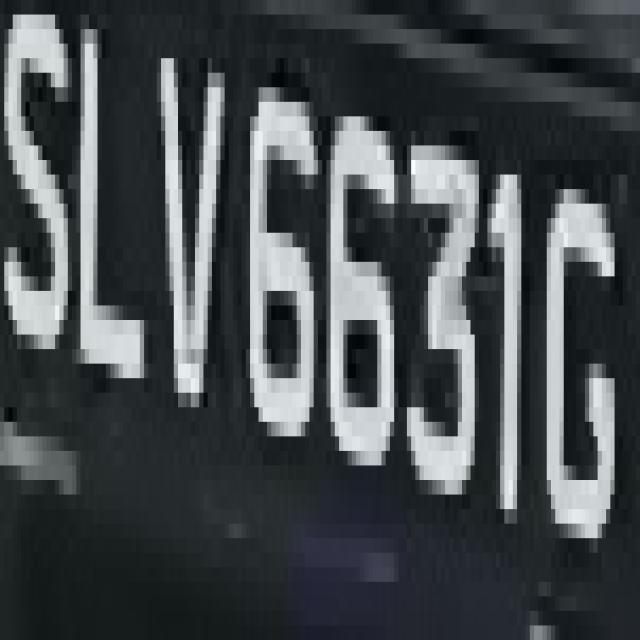1: (475, 102, 538, 553)
3: (398, 72, 479, 524)
6: (318, 72, 394, 524), (246, 44, 318, 509)
G: (534, 87, 619, 582)
L: (76, 15, 148, 407)
S: (8, 0, 76, 407)
V: (152, 14, 242, 422)
